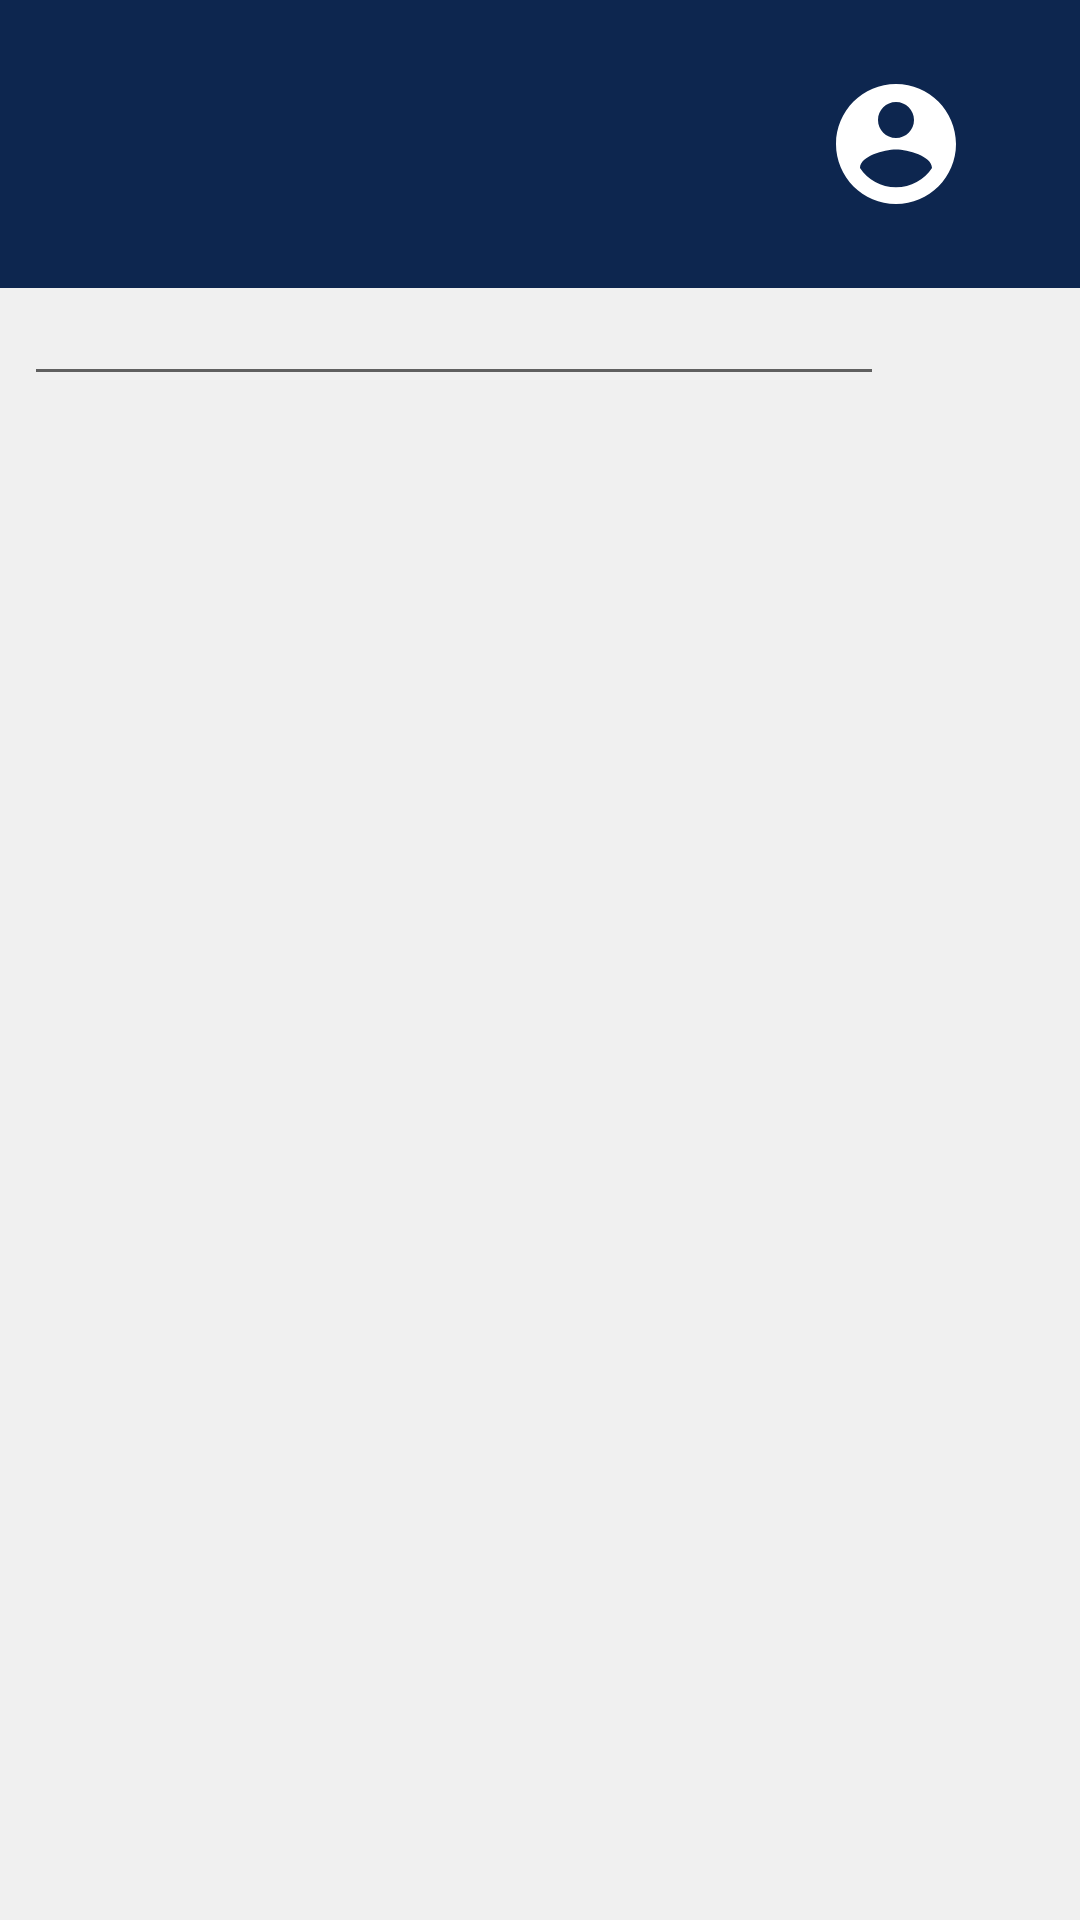

Named icons in this screenshot (1080×1920) and their centers, [x,y]:
account: [896,144]
